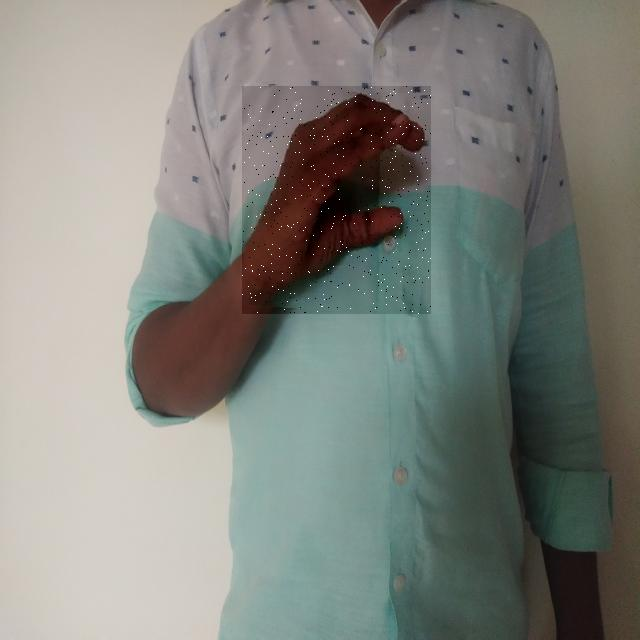C: (242, 86, 431, 314)
